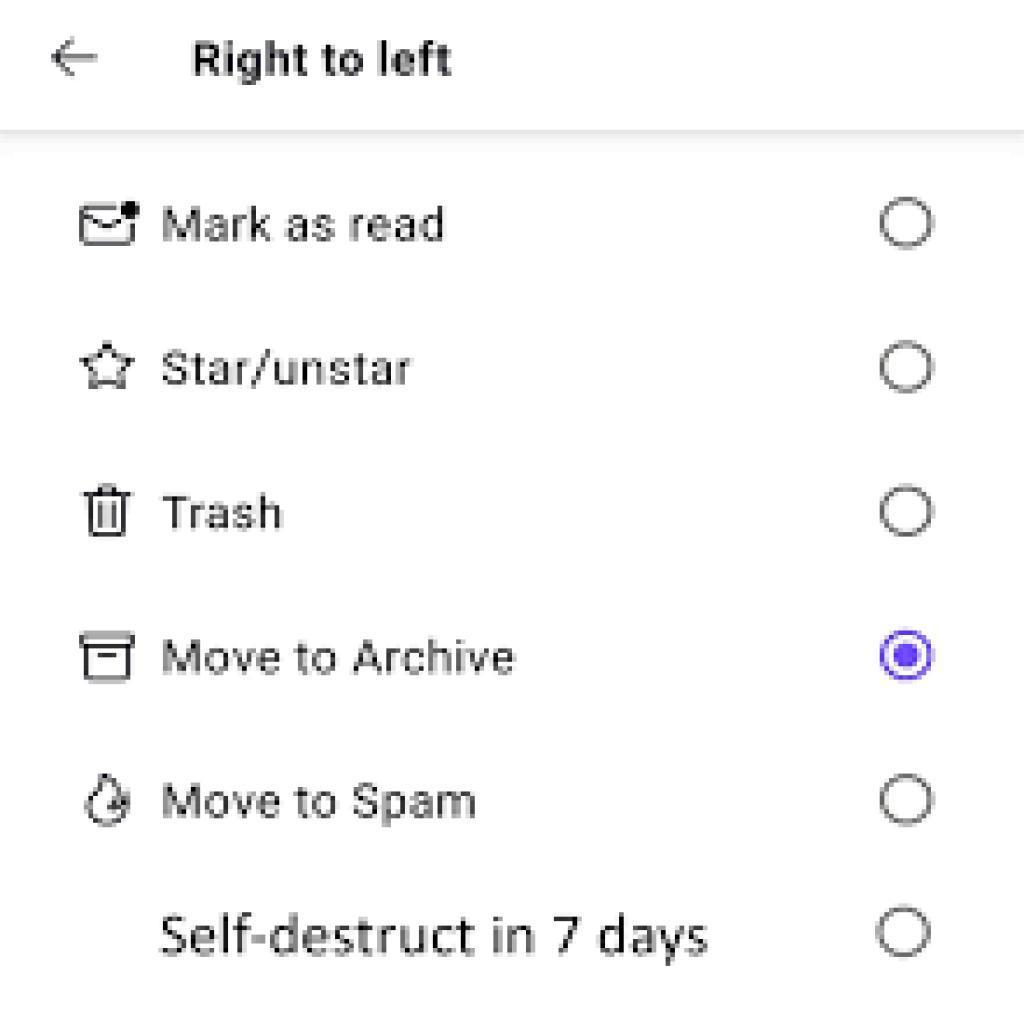icon: (65, 621, 153, 694), (77, 469, 143, 548), (75, 190, 148, 255), (81, 337, 142, 410), (83, 766, 143, 833)
radio: (872, 628, 944, 690), (870, 195, 941, 256), (879, 482, 940, 541), (875, 771, 937, 829), (882, 336, 936, 400), (874, 907, 934, 962)
